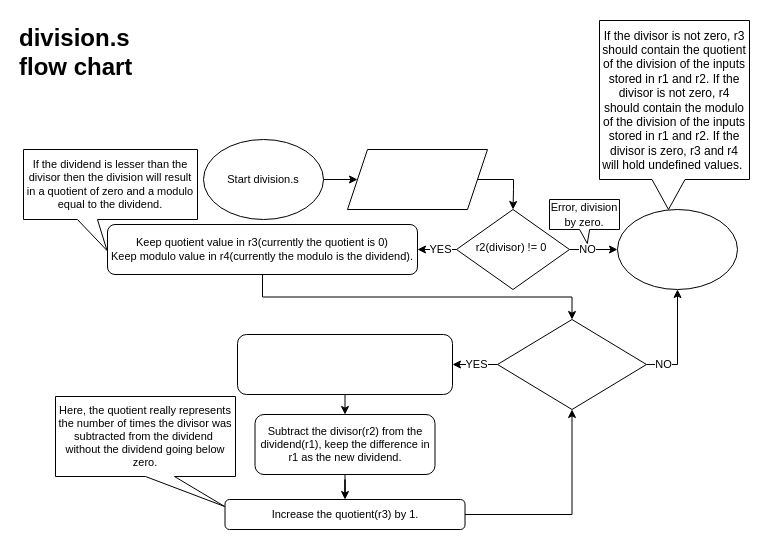
Some shapes in this 767 by 547 pixel diagram are drawn without their labels. The shapes that lost their labels are listed below. From the top down, each one's centre as x and y in pixels, then its label:
At point (417, 179): "Non-negative integer Inputs stored in r1(dividend) and r2(divisor).".
At point (677, 249): "Stop d ivision.s".
At point (344, 364): "Keep modulo value in r4 (current modulo = dividend - divisor).".
At point (571, 364): "r1(dividend) > r2(divisor)".
